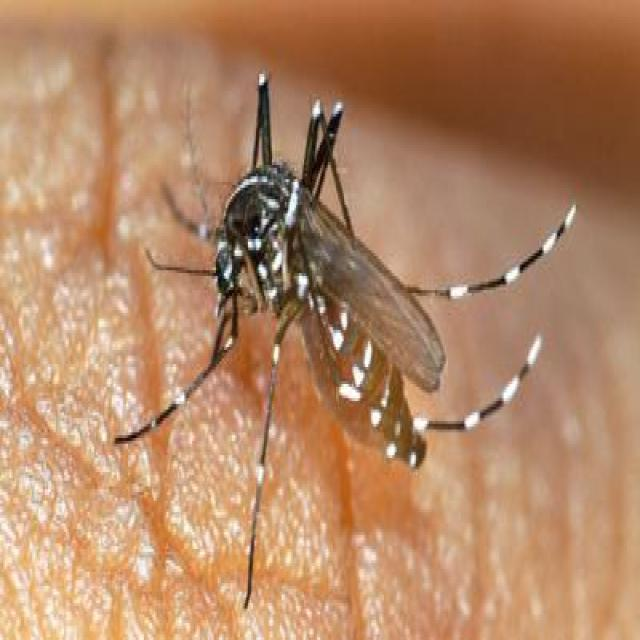antennae: (121, 64, 226, 282)
body: (220, 162, 428, 470)
insect: (106, 60, 578, 602)
legs: (118, 300, 301, 610), (413, 189, 579, 456), (248, 67, 365, 211)
wings: (298, 194, 445, 394)
